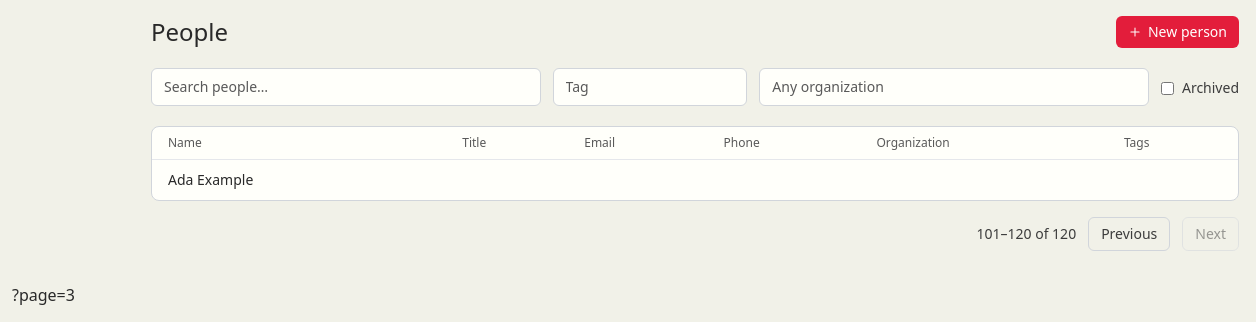
Test: People list filters › typing searches after a pause, and any filter change returns to page 1
The image size is (1256, 322).
Check: the text "101–120 of 120" is shown, box [976,224,1076,244]
In the search field labelled "Search people": {"x": 346, "y": 87} [151,68,541,106], type "zoë"
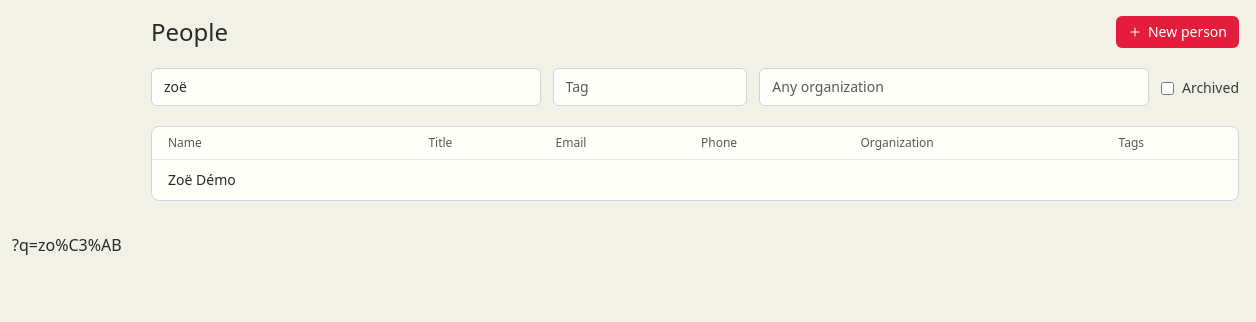
Check: the text with test id "where" reads "?q=zo%C3%AB", box [12,234,122,256]
Check: the link "Zoë Démo" is shown, box [168,170,236,189]
Click the checkbox labelled "Archived": {"x": 1167, "y": 88} [1161,82,1174,94]
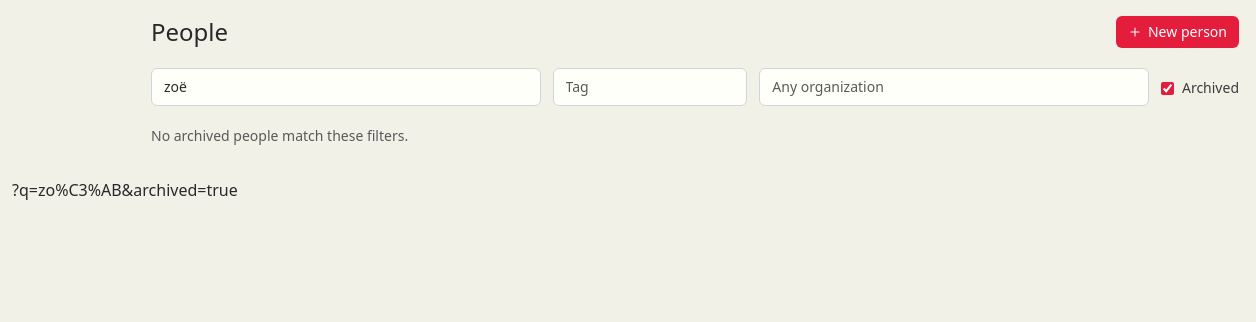
Check: the text with test id "where" reads "?q=zo%C3%AB&archived=true", box [12,179,238,201]
Check: the text "No archived people match these filters." is shown, box [151,126,408,145]
